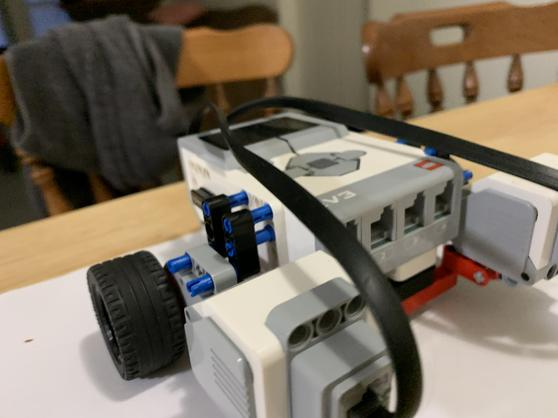robot: (82, 98, 558, 418)
